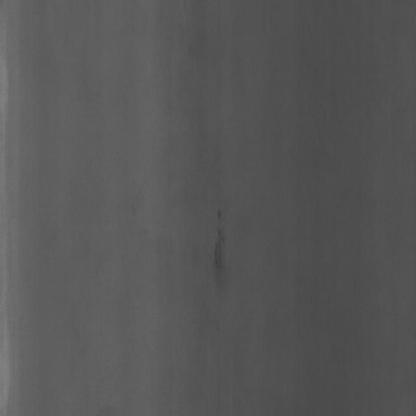water_spot: (206, 200, 235, 284)
